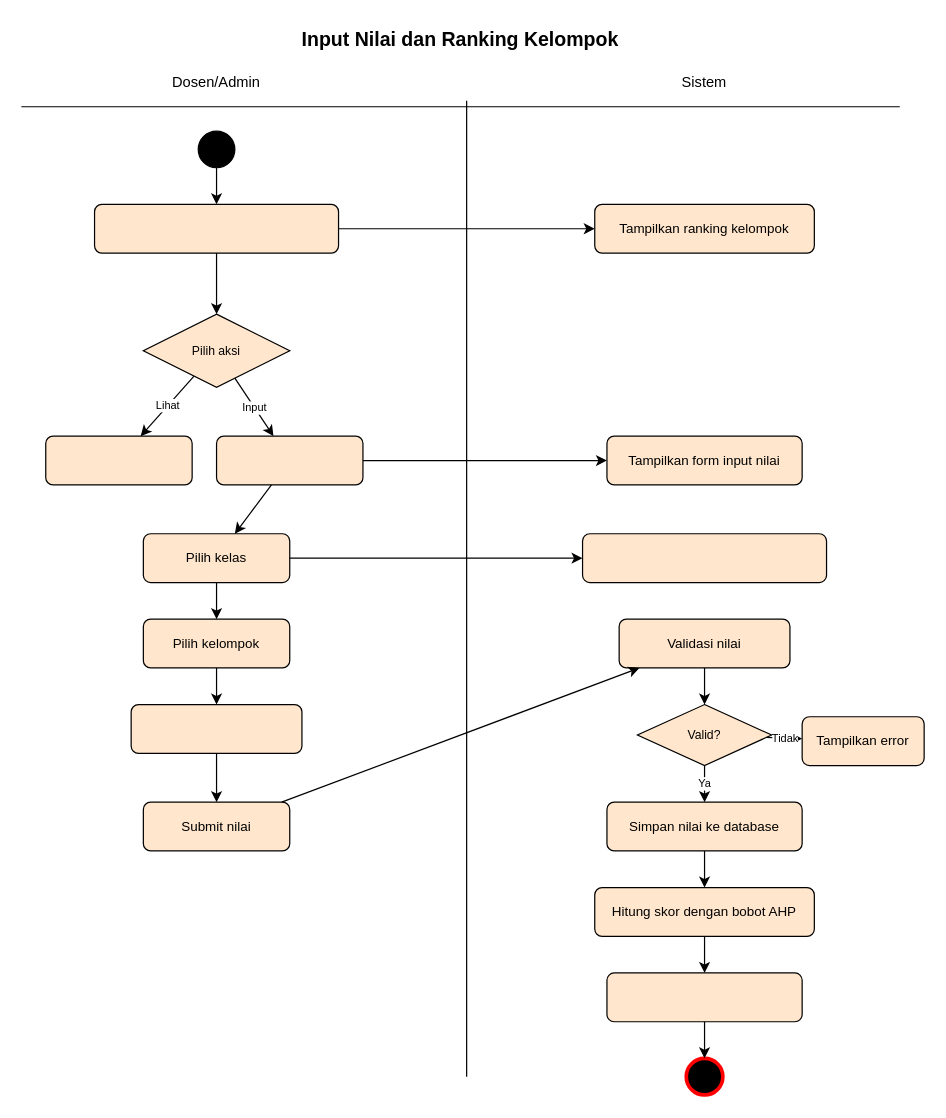
The diagram is 946 pixels wide and 1118 high, and some of its shapes have lost their labels. Each missing label, with the centre of its shape:
Akses menu ranking kelompok: point 216,228
Input nilai baru: point 289,460
Isi nilai per kriteria: point 216,728
Lihat ranking: point 118,460
Load kelompok berdasarkan kelas: point 704,558
Update ranking kelompok: point 704,997
